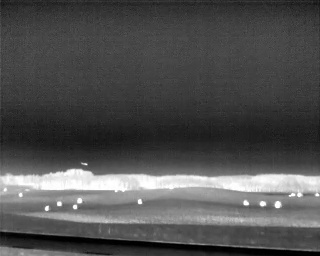AIRPLANE: (79, 159, 89, 168)
